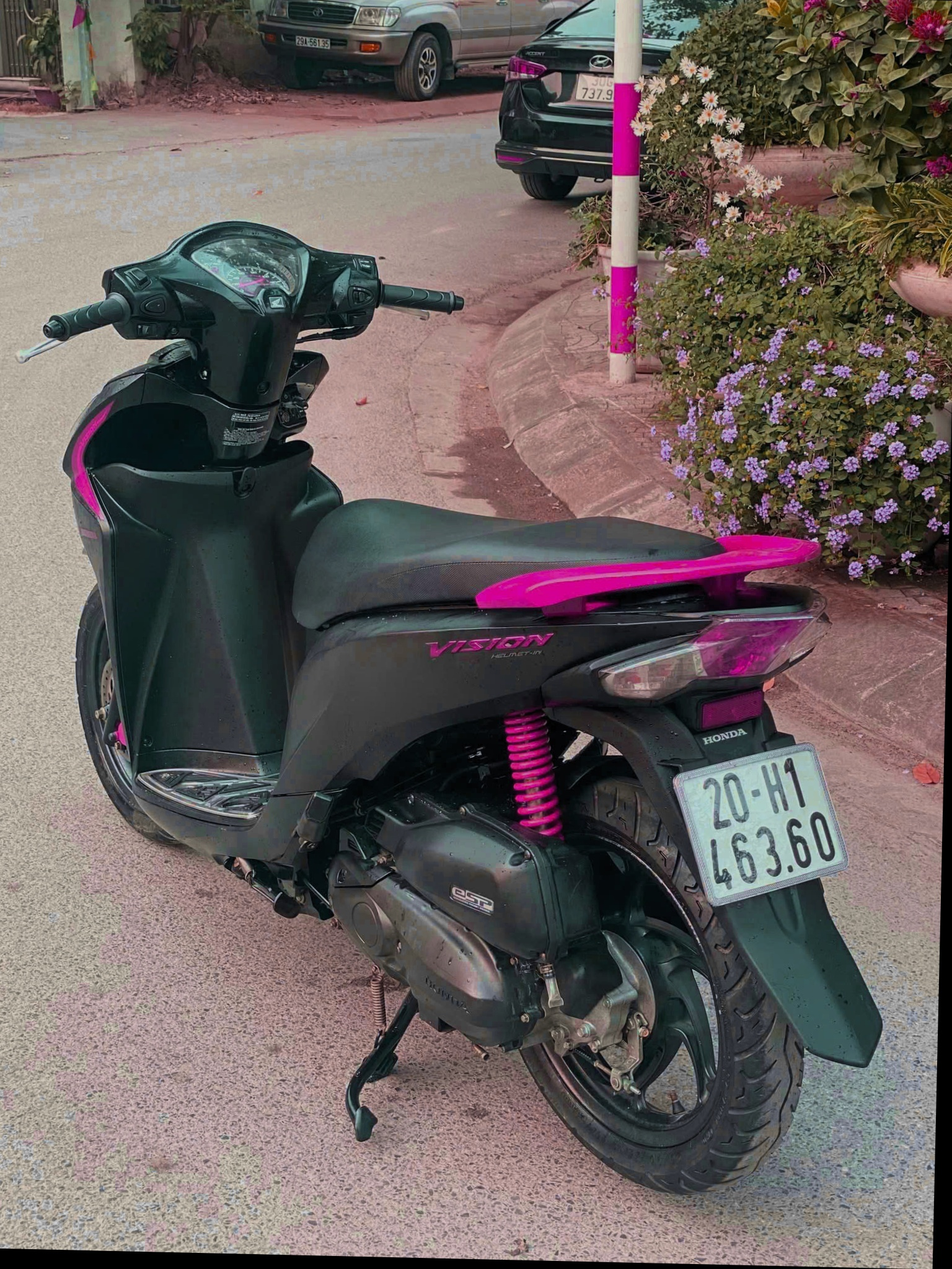Bien-so: (662, 736, 857, 917), (569, 77, 617, 108)
